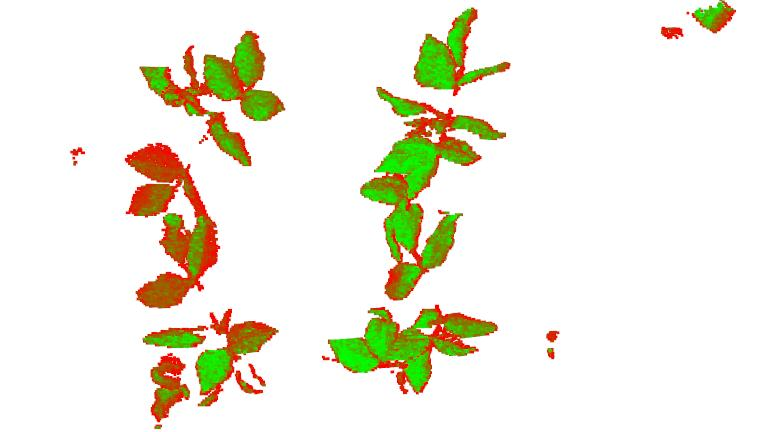mungbean: (116, 218, 284, 430), (333, 189, 499, 393), (117, 27, 284, 217), (374, 6, 509, 188)
